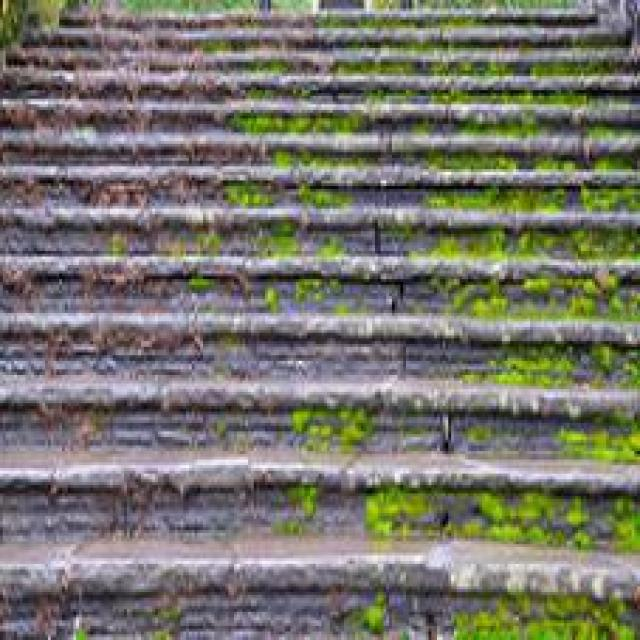upstair: (10, 94, 602, 579)
